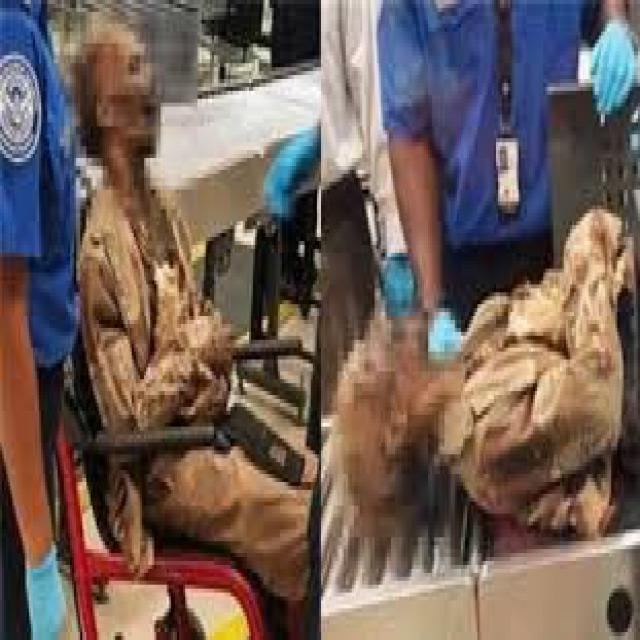wheelchairs: (51, 186, 317, 636)
